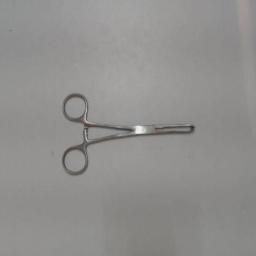Allis Tissue Forceps: (58, 87, 202, 183)
